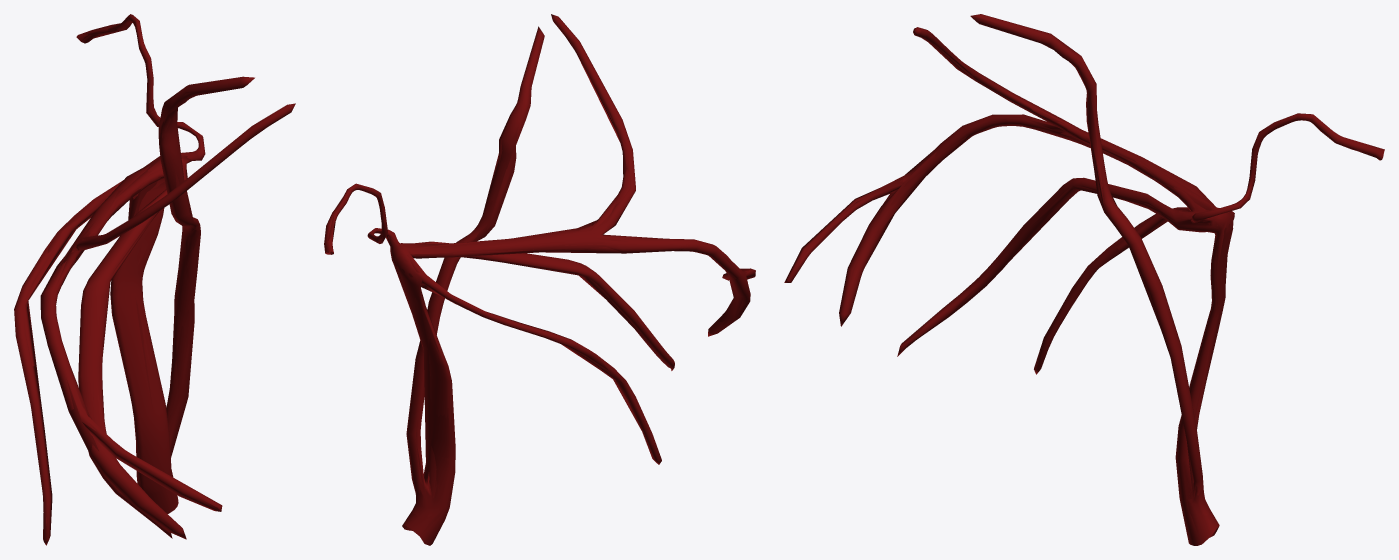
The model's file is R arteria occipitalis.fbx.
3 views of the same model, side by side, from view 1: azimuth 30°, elevation 25°; view 2: azimuth 150°, elevation 25°; view 3: azimuth 270°, elevation 25° (orthographic). The views are drawn at different scales.
Parts seen in each view (by area): view 1: R arteria occipitalis, R arteria occipitalis low, R arteria occipitalis high; view 2: R arteria occipitalis, R arteria occipitalis low, R arteria occipitalis high; view 3: R arteria occipitalis, R arteria occipitalis low, R arteria occipitalis high.
Part boxes in pixels (<box>): R arteria occipitalis: <box>14,14,295,545</box>; R arteria occipitalis low: <box>14,16,282,530</box>; R arteria occipitalis high: <box>25,19,274,525</box>; R arteria occipitalis: <box>324,14,755,545</box>; R arteria occipitalis low: <box>325,22,750,535</box>; R arteria occipitalis high: <box>326,34,750,535</box>; R arteria occipitalis: <box>784,14,1384,545</box>; R arteria occipitalis low: <box>811,21,1380,543</box>; R arteria occipitalis high: <box>798,24,1375,537</box>.
Size of the model in its own units: 6.72 by 11.92 by 12.47.
